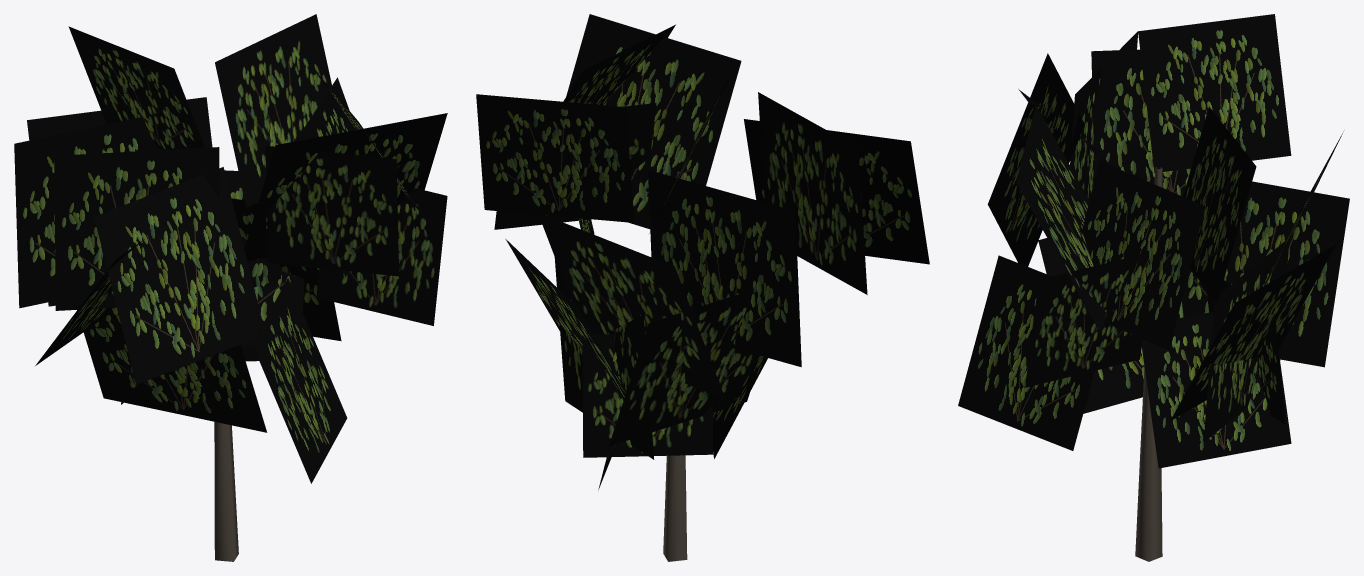
The model's file is tpl_westdike_dike_ash_lo.glb.
3 views of the same model, side by side, from view 1: azimuth 30°, elevation 25°; view 2: azimuth 150°, elevation 25°; view 3: azimuth 270°, elevation 25° (orthographic).
Visible parts, largest first — view 1: tpl_westdike_dike_ash_lo; view 2: tpl_westdike_dike_ash_lo; view 3: tpl_westdike_dike_ash_lo.
Part boxes in pixels (x1,y1,x2,y2): tpl_westdike_dike_ash_lo: (14,14,447,561); tpl_westdike_dike_ash_lo: (476,14,929,561); tpl_westdike_dike_ash_lo: (958,14,1349,561).
Size of the model in its own units: 14.37 by 17.93 by 12.8.
Materials: 2 (1 with a texture image).
